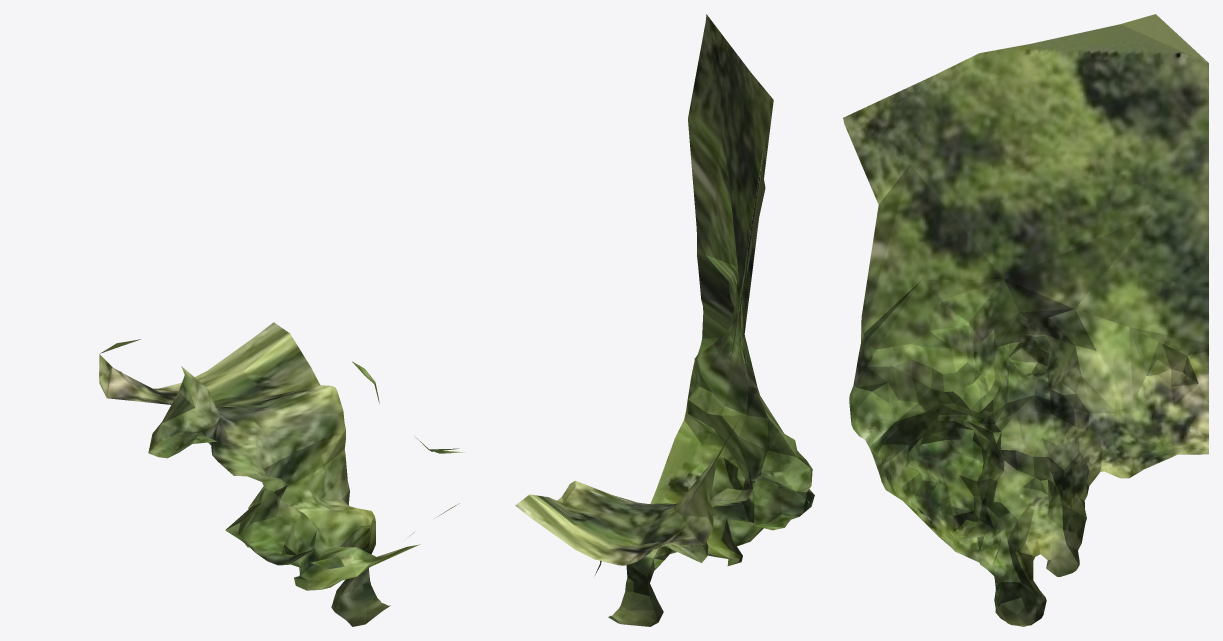
3 renders of one model, left to right at view 1: azimuth 30°, elevation 25°; view 2: azimuth 150°, elevation 25°; view 3: azimuth 270°, elevation 25°, orthographic. The views are drawn at different scales.
Bounding box in the file's own units: 9.5 × 20.95 × 13.51.
Materials: 2 (2 with a texture image).
